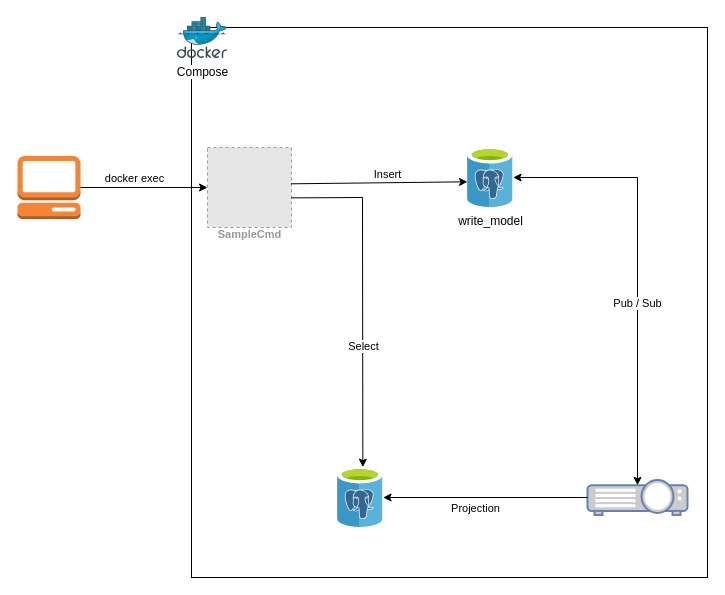
Image size: 725x595. Some labels were removed from this diagram. Grey dashed boxes stand in for pictures. The centre of each missing label's shape, as x and y in pixels:
Projector: point (637, 497)
read_model: point (360, 497)
